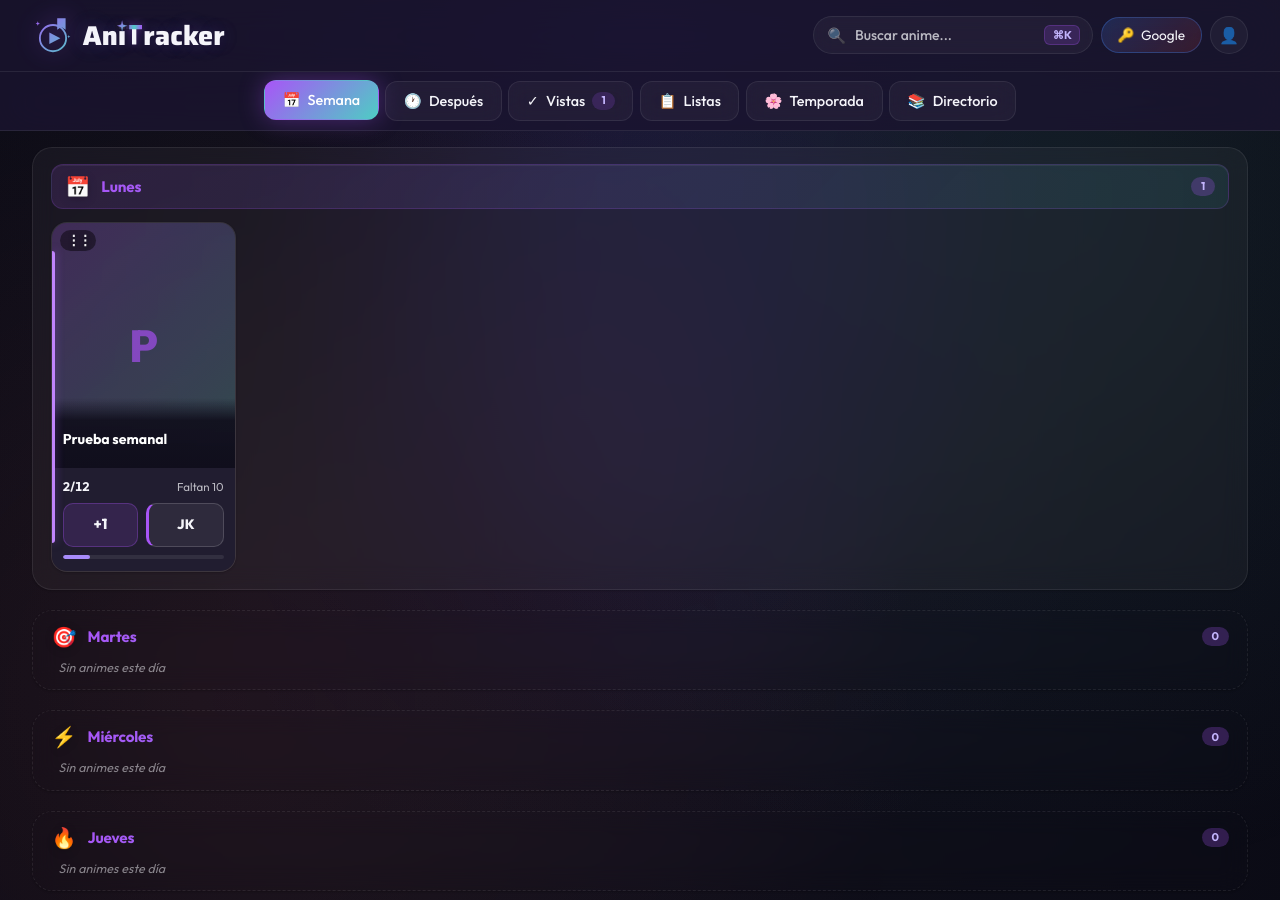
keeps the weekly library and history while removing Today and Stats navigation
Step 1. Click the tab "✓ Vistas 1" → point(571, 101), box [508,81,634,121]
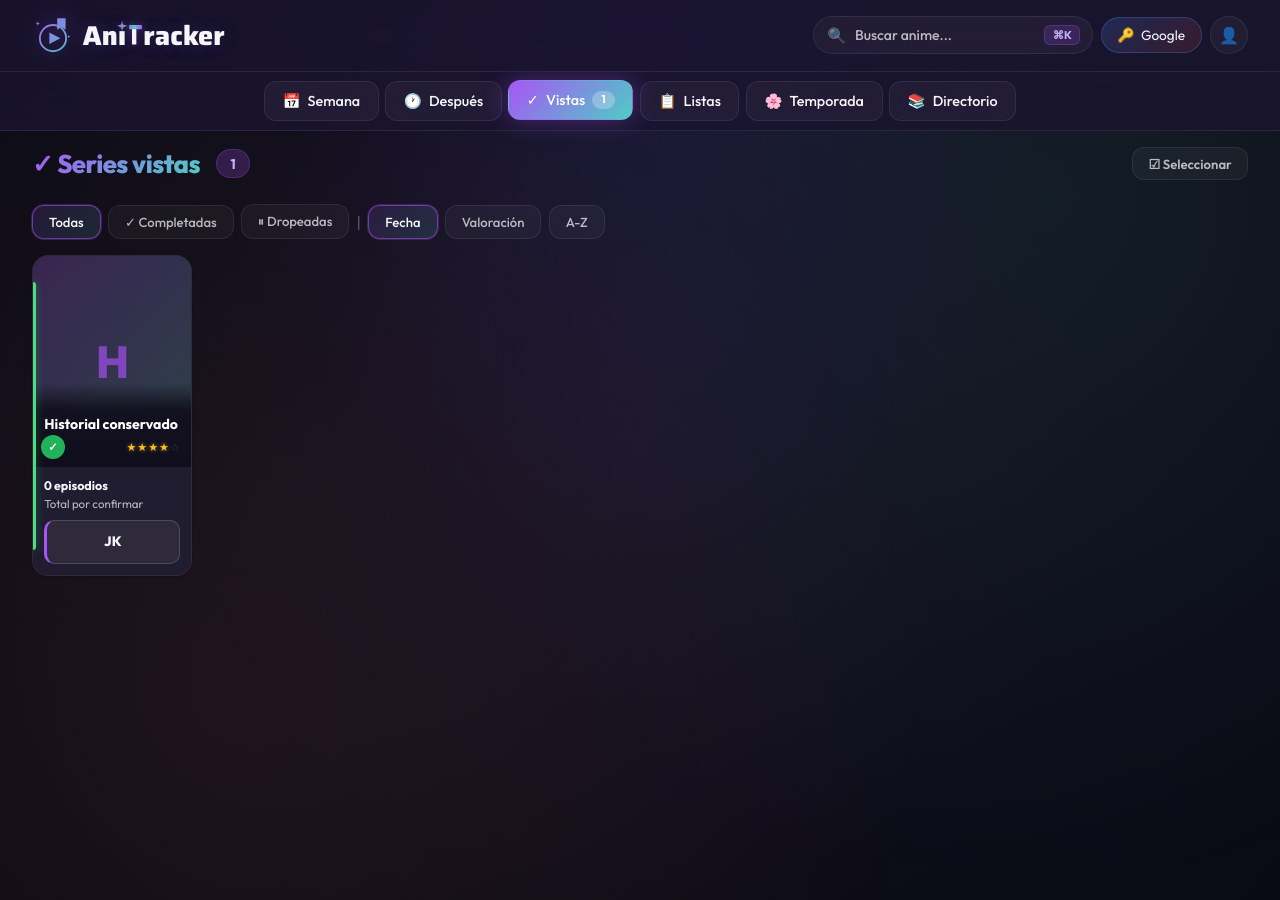
Expected: the button "Historial conservado" is shown, [44,415,180,434]
